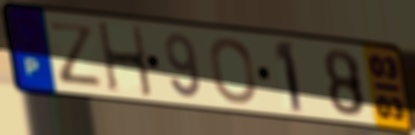1: (272, 39, 306, 116)
8: (321, 47, 368, 119)
9: (162, 30, 202, 101)
H: (95, 20, 156, 100)
O: (207, 36, 259, 106)
Z: (45, 20, 105, 89)
